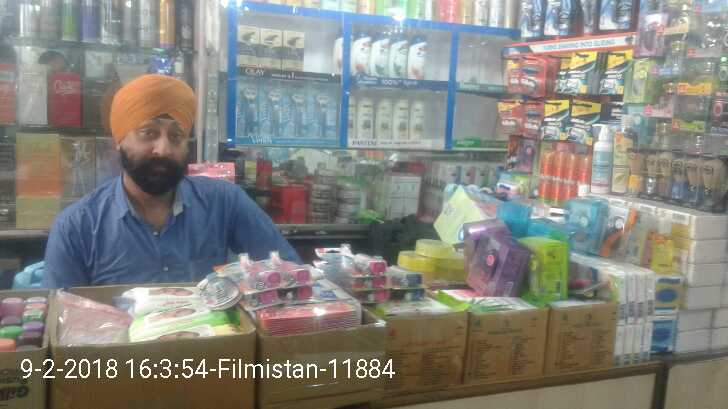gillete: (520, 53, 561, 94), (599, 50, 632, 95), (569, 101, 598, 141), (544, 98, 569, 140), (570, 53, 593, 92), (498, 102, 523, 137), (523, 99, 543, 137), (552, 152, 565, 204), (539, 152, 551, 201), (577, 155, 591, 196), (565, 152, 577, 196), (506, 59, 520, 94)
venus: (310, 88, 337, 139), (237, 85, 263, 137), (263, 88, 288, 137), (288, 88, 310, 139)
